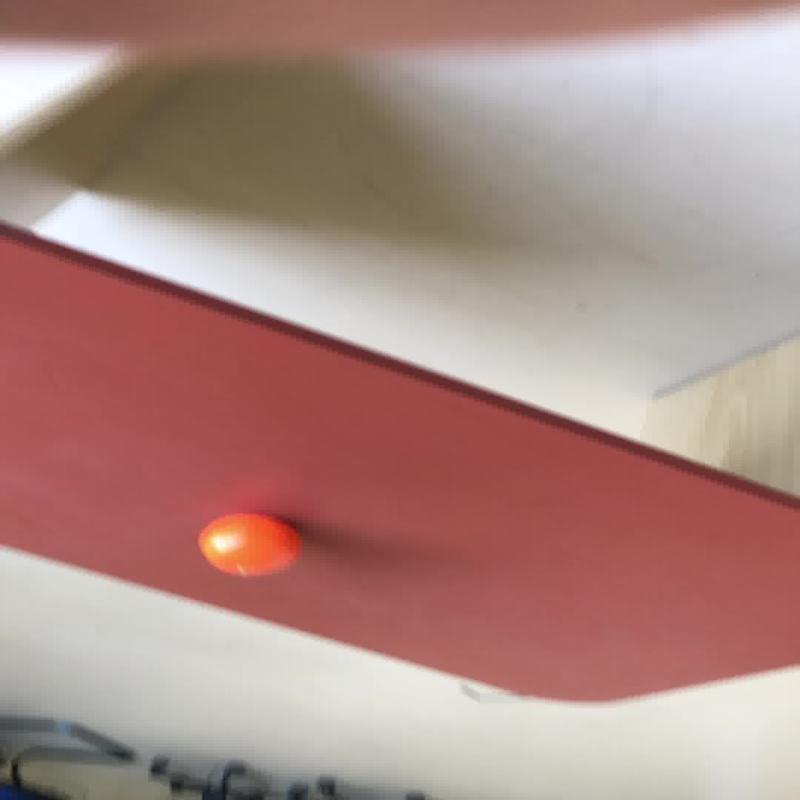orange: (194, 512, 302, 576)
